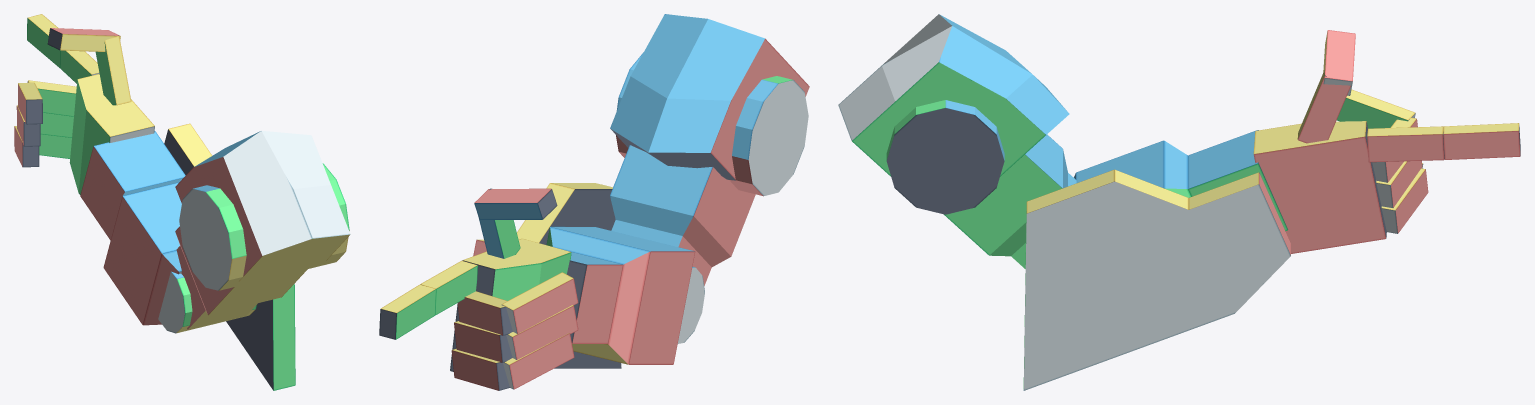
The model's file is X_right_arm.fbx.
3 views of the same model, side by side, from view 1: azimuth 30°, elevation 25°; view 2: azimuth 150°, elevation 25°; view 3: azimuth 270°, elevation 25° (orthographic). The views are drawn at different scales.
Visible parts, largest first — view 1: should plate, foreaerm piston, shoulder motor, foreaerm plater, knuckles, bicep piston, forearm motor, finger25, finger26, finger22_1, finger24, finger23_1 (+5 smaller); view 2: should plate, foreaerm piston, bicep piston, shoulder motor, foreaerm plater, knuckles, finger23, finger26, finger24, finger12, finger22, finger22_1 (+5 smaller); view 3: foreaerm plater, should plate, knuckles, shoulder motor, bicep piston, foreaerm piston, finger24, finger23_1, finger25, finger23, finger26, finger11 (+2 smaller).
Boxes of the visible parts, x1,y1,x2,y2 form: should plate: (175, 130, 350, 281); foreaerm piston: (80, 131, 185, 325); shoulder motor: (179, 163, 349, 290); foreaerm plater: (164, 123, 295, 390); knuckles: (69, 74, 154, 194); bicep piston: (175, 226, 307, 329); forearm motor: (158, 271, 256, 333); finger25: (95, 35, 131, 105); finger26: (47, 28, 120, 51); finger22_1: (27, 80, 76, 116); finger24: (27, 14, 60, 67); finger23_1: (60, 50, 99, 83); should plate: (610, 14, 809, 180); foreaerm piston: (546, 226, 695, 364); bicep piston: (610, 145, 755, 285); shoulder motor: (616, 52, 808, 196); foreaerm plater: (473, 183, 621, 368); knuckles: (450, 238, 571, 371); finger23: (501, 272, 578, 333); finger26: (474, 188, 557, 219); finger24: (379, 284, 436, 339); finger12: (503, 333, 574, 389); finger22: (506, 305, 578, 359); finger22_1: (457, 291, 513, 335); foreaerm plater: (1023, 169, 1290, 390); should plate: (838, 14, 1069, 176); knuckles: (1253, 121, 1386, 253); shoulder motor: (886, 100, 1004, 214); bicep piston: (944, 134, 1076, 268); foreaerm piston: (1074, 130, 1287, 231); finger24: (1443, 123, 1520, 159); finger23_1: (1367, 126, 1444, 162); finger25: (1297, 70, 1350, 143); finger23: (1337, 89, 1415, 128); finger26: (1323, 30, 1355, 95); finger11: (1381, 168, 1428, 233).
Size of the model in its own units: 54.42 by 120 by 225.
Materials: 1 (1 with a texture image).
